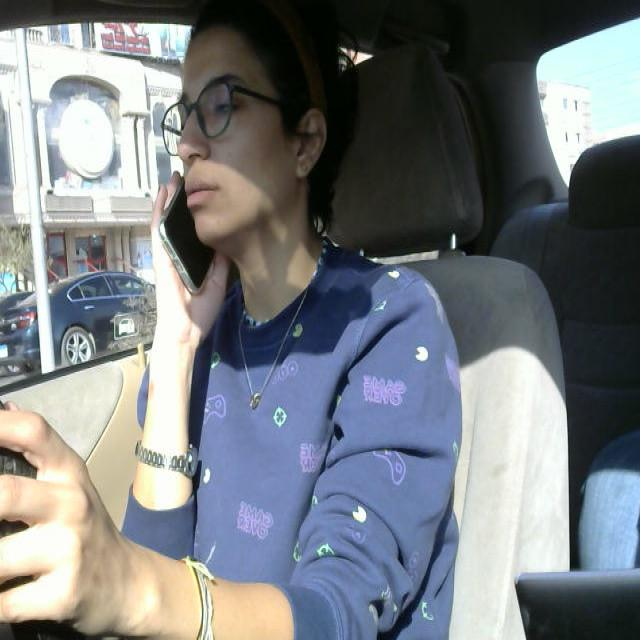mobile use: (156, 172, 218, 299)
